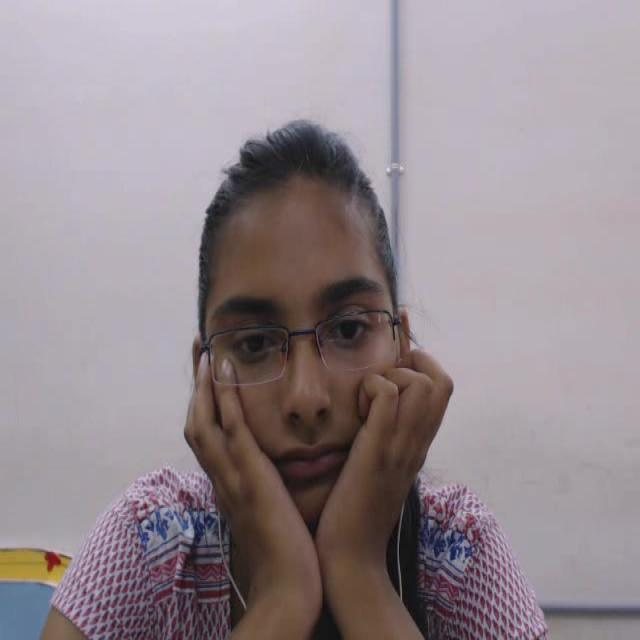Bored: (169, 104, 443, 546)
